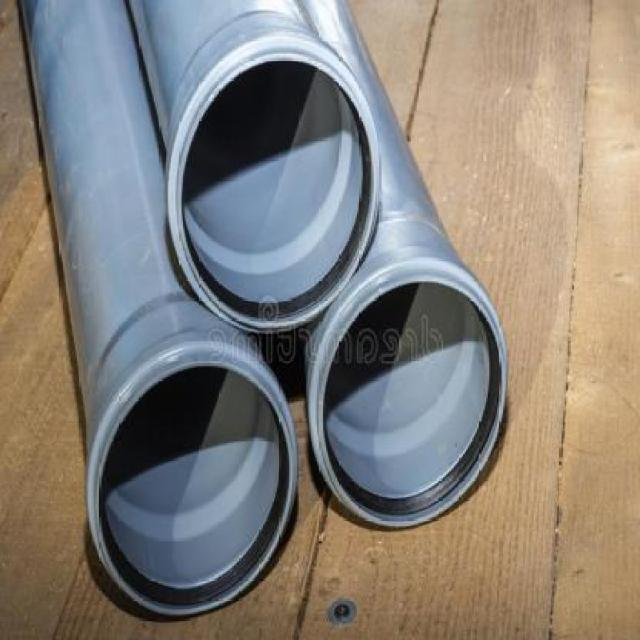pipe: (168, 39, 381, 333), (86, 345, 297, 619), (308, 268, 508, 530)
